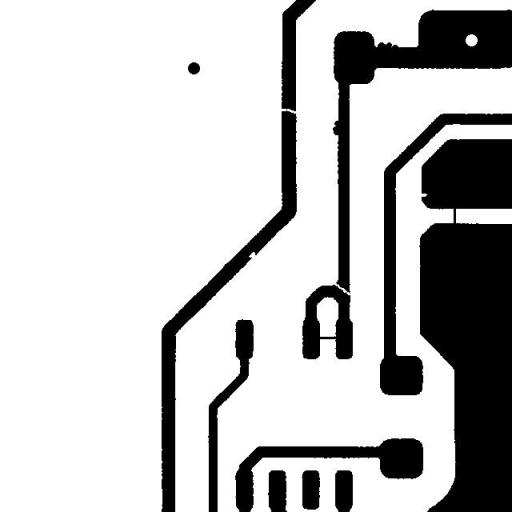copper: (180, 54, 207, 82)
mousebite: (241, 244, 262, 266), (412, 186, 434, 204)
open: (325, 273, 367, 309), (267, 99, 306, 123)
pin-hole: (458, 26, 484, 54)
short: (308, 328, 348, 347), (446, 194, 463, 234)
spur: (370, 34, 406, 58), (325, 113, 349, 142)
